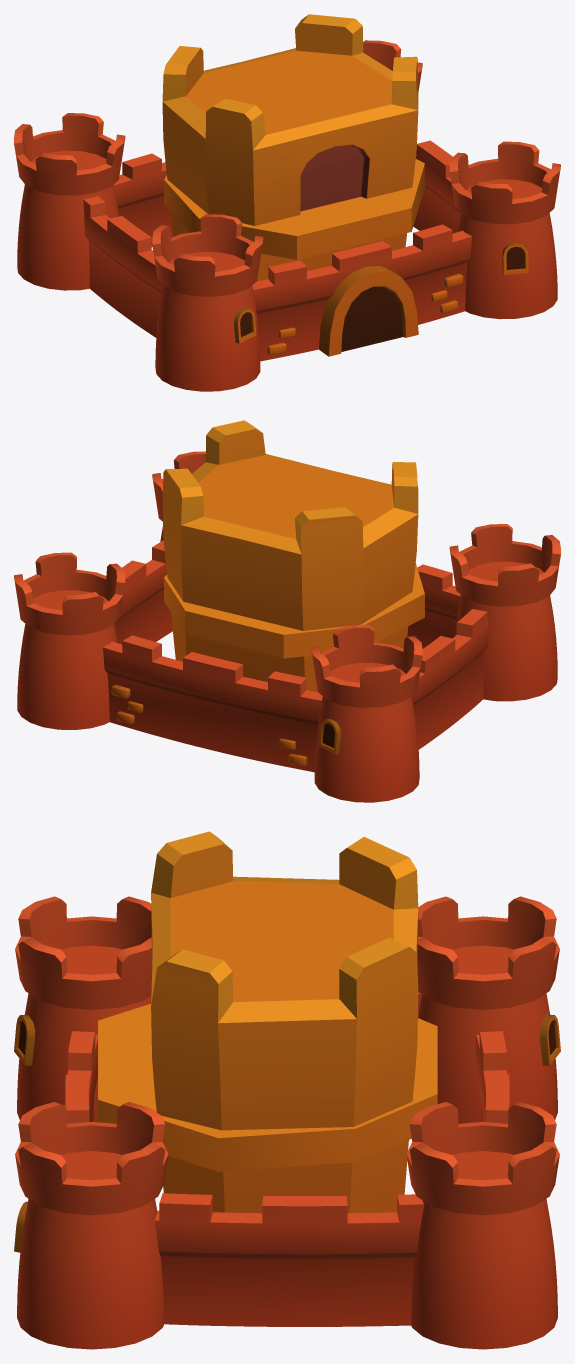
File: Castle (1).FBX
3 views of the same model, one above another, from view 1: azimuth 30°, elevation 25°; view 2: azimuth 150°, elevation 25°; view 3: azimuth 270°, elevation 25° (orthographic). The views are drawn at different scales.
Parts seen in each view (by area): view 1: Object001; view 2: Object001; view 3: Object001.
Boxes of the visible parts, left/top/right/bottom form: Object001: left=14, top=14, right=560, bottom=391; Object001: left=14, top=420, right=560, bottom=802; Object001: left=14, top=831, right=560, bottom=1349.
Size of the model in its own units: 232 by 125 by 199.
1 material, 1 textured.
